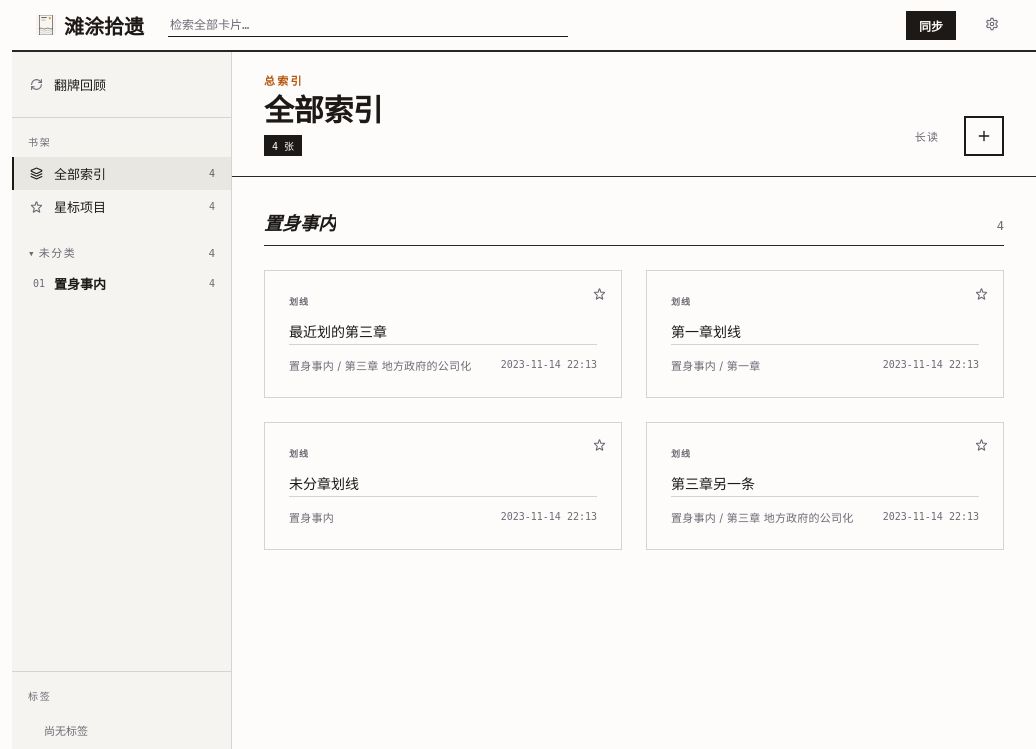
书内章节目次 › 载全后点「章节 N」打开目次，章序是阅读顺序而不是墙上的最近划过
Click the button "01 置身事内 4" at {"x": 122, "y": 284}, box [12,267,231,300]
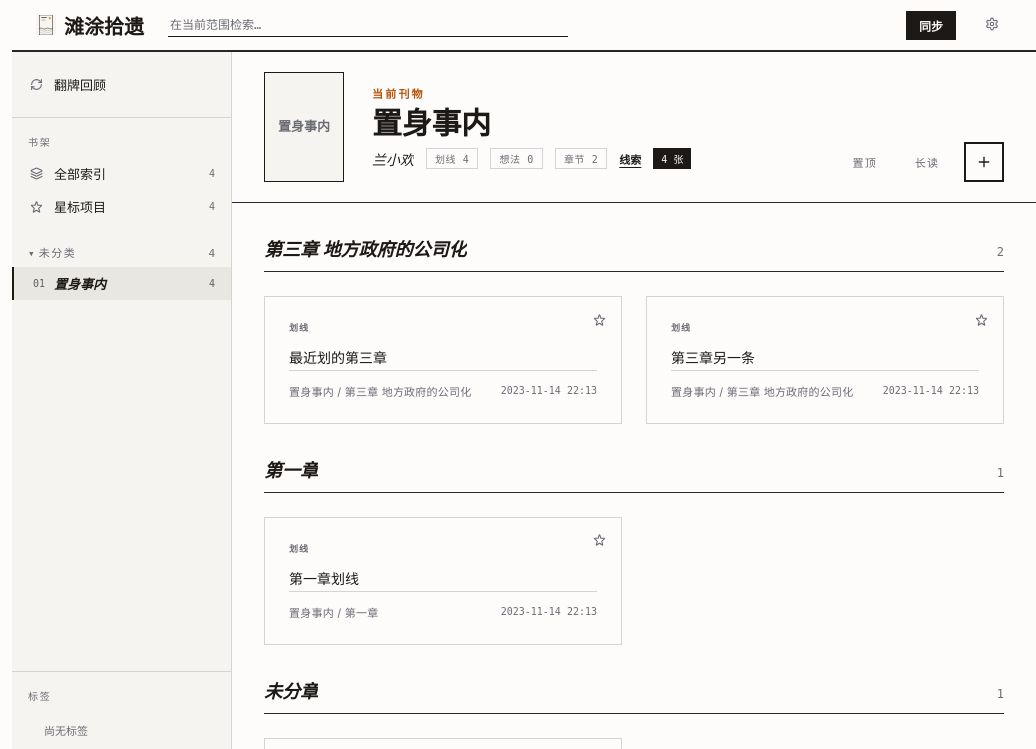
Expected: the text "最近划的第三章" is shown, [289,349,387,366]
Click the button "章节 2" at {"x": 581, "y": 158}, box [555,148,607,169]
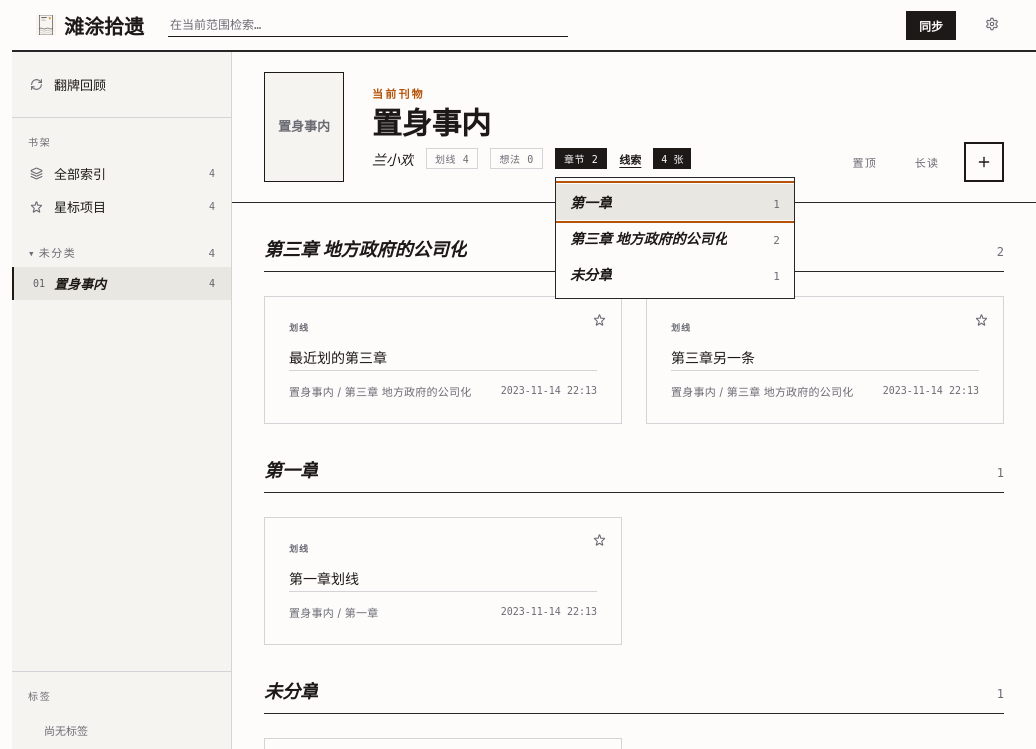
Expected: the button "章节 2" is expanded, [555,148,607,169]
